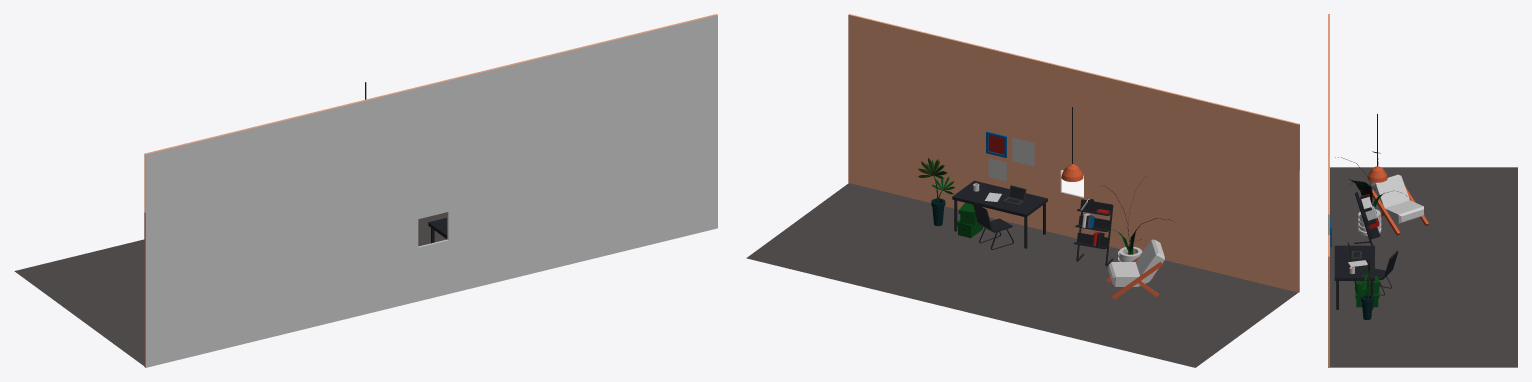
Rendered from plant.obj.
3 views of the same model, side by side, from view 1: azimuth 30°, elevation 25°; view 2: azimuth 150°, elevation 25°; view 3: azimuth 270°, elevation 25° (orthographic). The views are drawn at different scales.
Parts seen in each view (by area): view 1: Cube.004_Cube.010; view 2: Cube.004_Cube.010, Cube.005_Cube.006, Plane, Cube.002_Cube.001, Cube; view 3: Cube.004_Cube.010, Cube.005_Cube.006, Cylinder.003_Cylinder.005, Cylinder.005_Cylinder.001, Cube.002_Cube.001, Cylinder.002_Cylinder.004, Plane.005.
Boxes of the visible parts, x1,y1,x2,y2 form: Cube.004_Cube.010: (14,14,717,367); Cube.004_Cube.010: (746,14,1299,367); Cube.005_Cube.006: (1073,199,1113,266); Plane: (1012,137,1034,166); Cube.002_Cube.001: (973,202,1012,232); Cube: (986,131,1006,157); Cube.004_Cube.010: (1328,14,1517,367); Cube.005_Cube.006: (1354,192,1380,252); Cylinder.003_Cylinder.005: (1367,113,1387,182); Cylinder.005_Cylinder.001: (1361,294,1373,320); Cube.002_Cube.001: (1375,250,1398,279); Cylinder.002_Cylinder.004: (1358,209,1381,235); Plane.005: (1348,179,1372,204).
Size of the model in its own units: 12.67 by 4.52 by 5.06.
